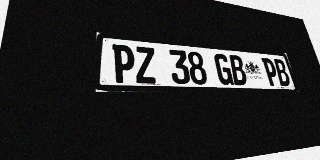3: (169, 49, 191, 84)
8: (187, 51, 208, 85)
B: (228, 55, 248, 85), (273, 59, 292, 86)
G: (213, 53, 234, 85)
P: (112, 44, 136, 83), (261, 58, 280, 86)
Z: (134, 46, 157, 84)
